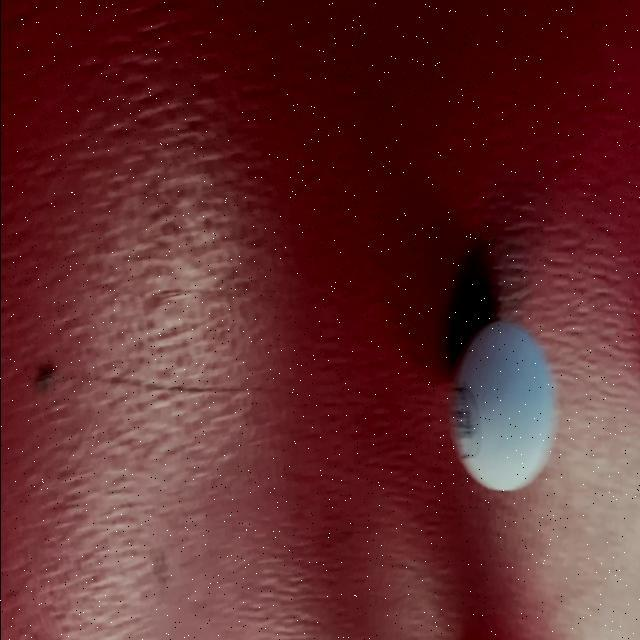ping-pong-ball: (428, 288, 572, 532)
